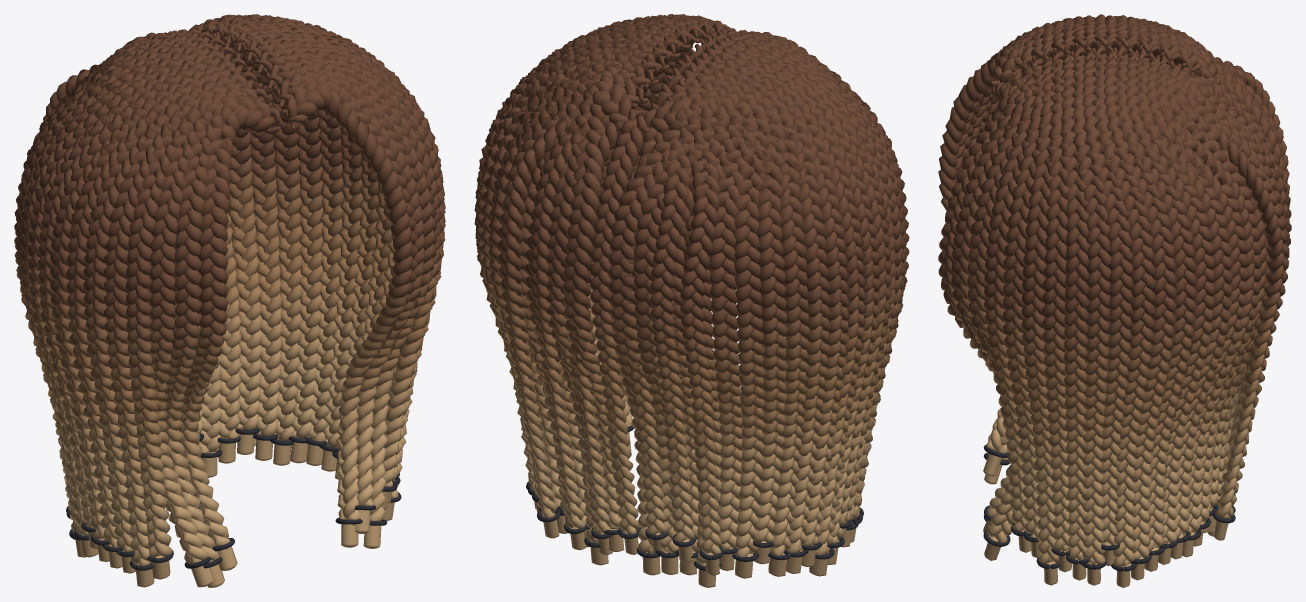
File: Ombre-5b8fd8b78645253-hair.glb
3 views of the same model, side by side, from view 1: azimuth 30°, elevation 25°; view 2: azimuth 150°, elevation 25°; view 3: azimuth 270°, elevation 25° (orthographic). The views are drawn at different scales.
Visible parts, largest first — view 1: 226 hair / Hair / chestnut226, 226 hair / Hair / ties226; view 2: 226 hair / Hair / chestnut226, 226 hair / Hair / ties226; view 3: 226 hair / Hair / chestnut226, 226 hair / Hair / ties226.
Boxes of the visible parts, <box> form: 226 hair / Hair / chestnut226: <box>14,14,445,587</box>; 226 hair / Hair / ties226: <box>66,428,401,570</box>; 226 hair / Hair / chestnut226: <box>474,14,909,587</box>; 226 hair / Hair / ties226: <box>526,425,863,570</box>; 226 hair / Hair / chestnut226: <box>938,14,1291,587</box>; 226 hair / Hair / ties226: <box>983,445,1235,571</box>.
Bounding box in the file's own units: 1.07 × 1.31 × 0.8719.
Materials: 2 (1 with a texture image).
